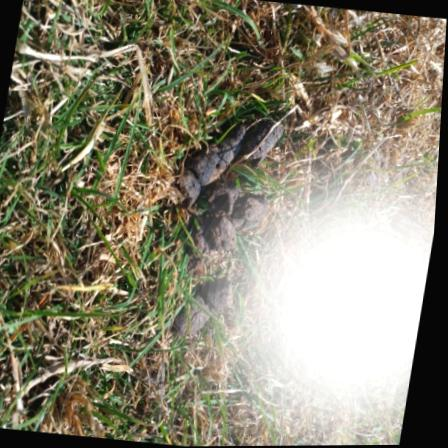dog-poop: (155, 101, 292, 355)
